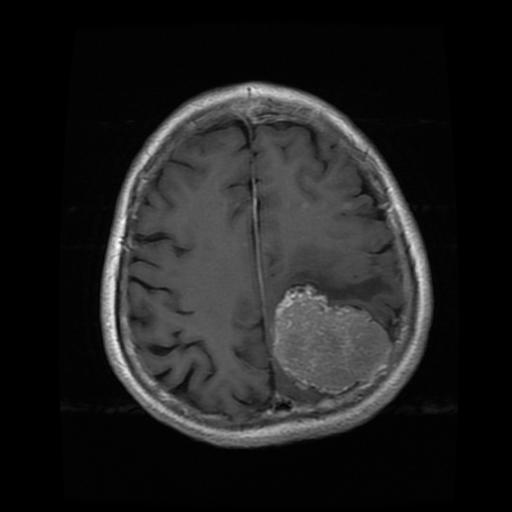Menigiomia_tumour: (274, 282, 389, 392)
